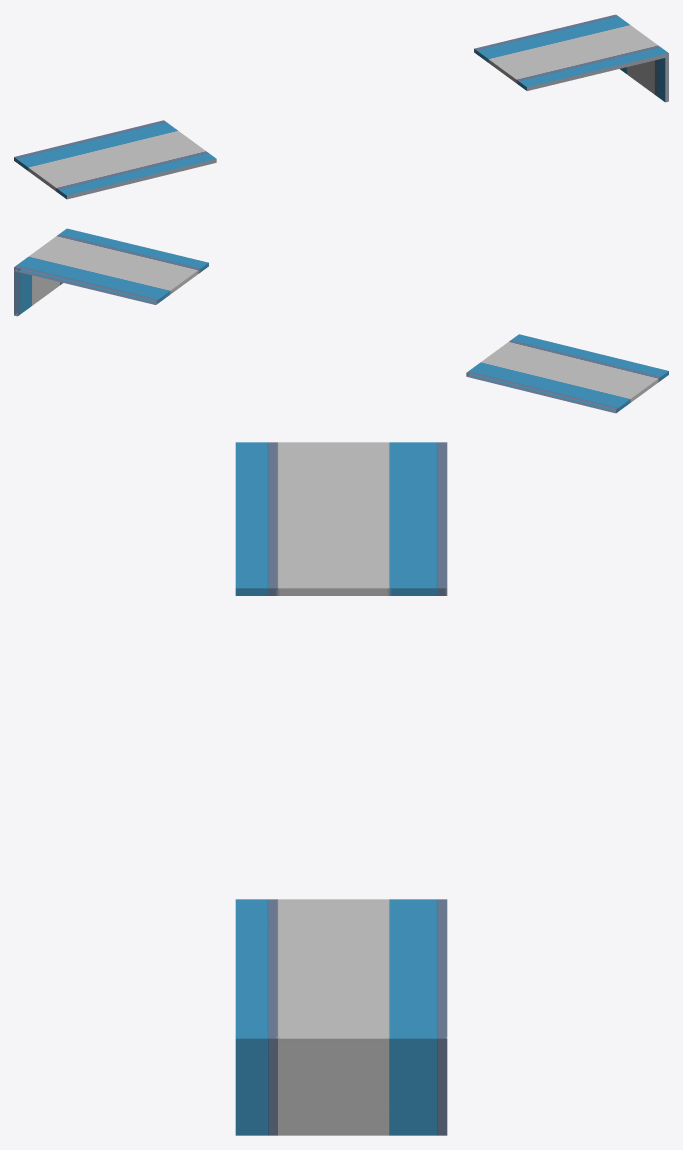
The model's file is wall_3.obj.
3 renders of one model, top to bottom at view 1: azimuth 30°, elevation 25°; view 2: azimuth 150°, elevation 25°; view 3: azimuth 270°, elevation 25°, orthographic. The views are drawn at different scales.
Parts seen in each view (by area): view 1: walls; view 2: walls; view 3: walls.
Boxes of the visible parts, x1,y1,x2,y2 form: walls: (14, 14, 668, 199); walls: (14, 228, 668, 413); walls: (235, 442, 447, 1135).
Bounding box in the file's own units: 16.43 × 1.38 × 2.5.
1 material, 1 textured.
